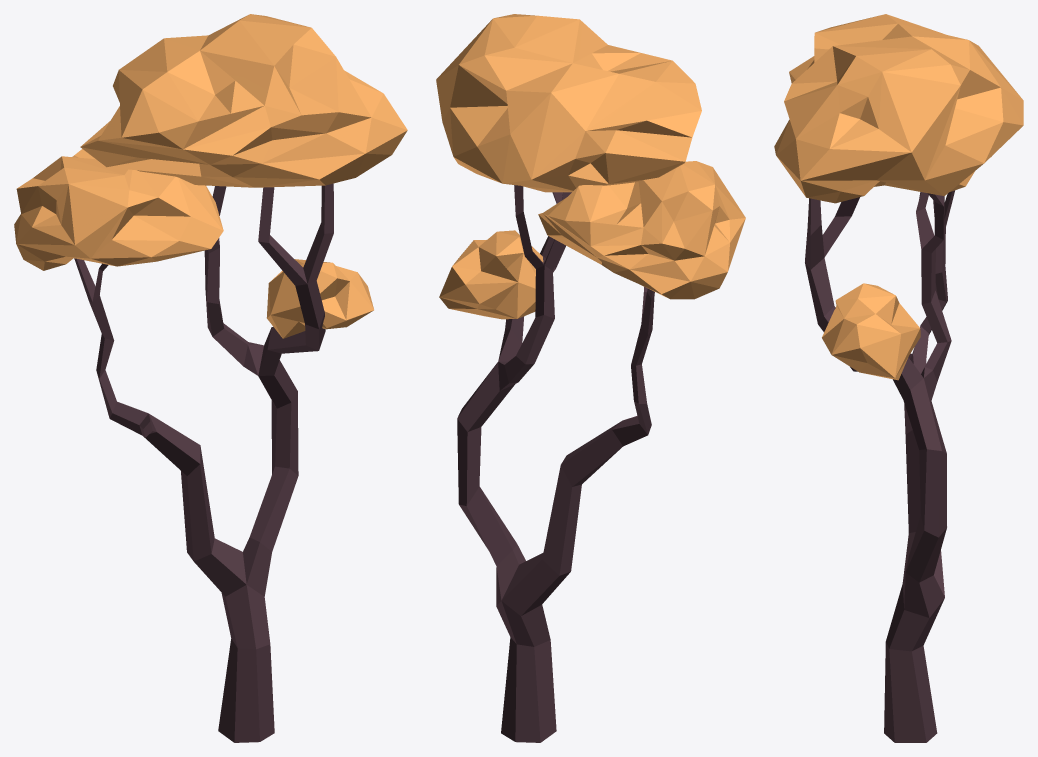
File: Tree2.fbx
3 views of the same model, side by side, from view 1: azimuth 30°, elevation 25°; view 2: azimuth 150°, elevation 25°; view 3: azimuth 270°, elevation 25° (orthographic). The views are drawn at different scales.
Parts seen in each view (by area): view 1: SM_Env_Tree_02; view 2: SM_Env_Tree_02; view 3: SM_Env_Tree_02.
Boxes of the visible parts, bbox=[...] form: SM_Env_Tree_02: bbox=[14, 14, 407, 742]; SM_Env_Tree_02: bbox=[436, 14, 745, 742]; SM_Env_Tree_02: bbox=[774, 14, 1023, 742].
Bounding box in the file's own units: 2.24 × 4.68 × 1.54.
